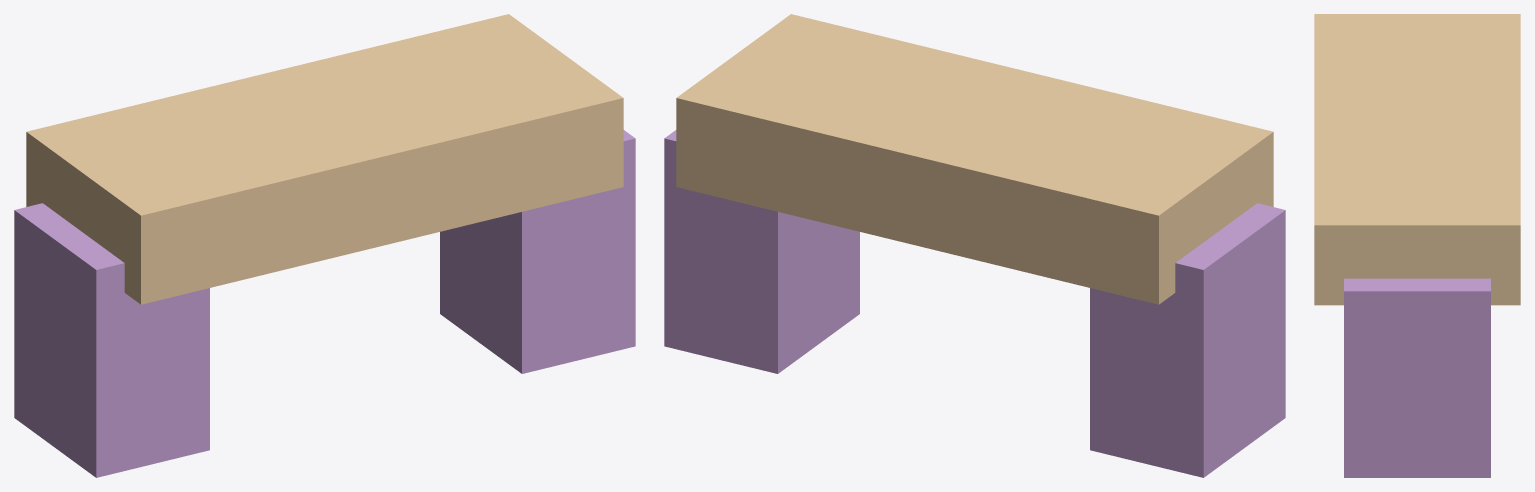
File: alien-biosphere-crystal-bridge-7382fb7a__22745.glb
The picture shows the model from 3 angles, left to right: view 1: azimuth 30°, elevation 25°; view 2: azimuth 150°, elevation 25°; view 3: azimuth 270°, elevation 25°; orthographic projection. The views are drawn at different scales.
Parts seen in each view (by area): view 1: crystal-bridge; view 2: crystal-bridge; view 3: crystal-bridge.
Part boxes in pixels (x1=…): crystal-bridge: x1=14, y1=14, x2=635, y2=477; crystal-bridge: x1=664, y1=14, x2=1285, y2=477; crystal-bridge: x1=1314, y1=14, x2=1520, y2=477.
Bounding box in the file's own units: 3.8 × 1.8 × 1.4.
